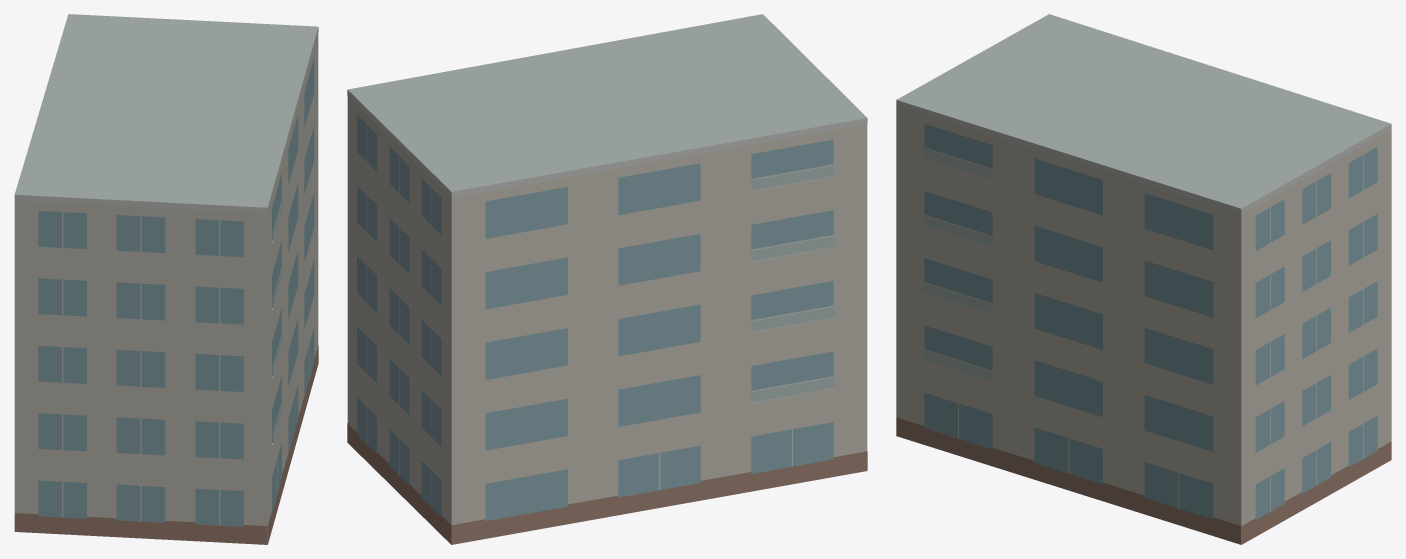
The model's file is survey-upis-32687291.glb.
3 renders of one model, left to right at view 1: azimuth 30°, elevation 25°; view 2: azimuth 150°, elevation 25°; view 3: azimuth 270°, elevation 25°, orthographic. The views are drawn at different scales.
Visible parts, largest first — view 1: survey-upis-32687291.tmp; view 2: survey-upis-32687291.tmp; view 3: survey-upis-32687291.tmp.
Part boxes in pixels (x1,y1,x2,y2): survey-upis-32687291.tmp: (14,14,318,544); survey-upis-32687291.tmp: (347,14,867,544); survey-upis-32687291.tmp: (896,14,1391,544).
Bounding box in the file's own units: 18.02 × 14.5 × 19.37.
